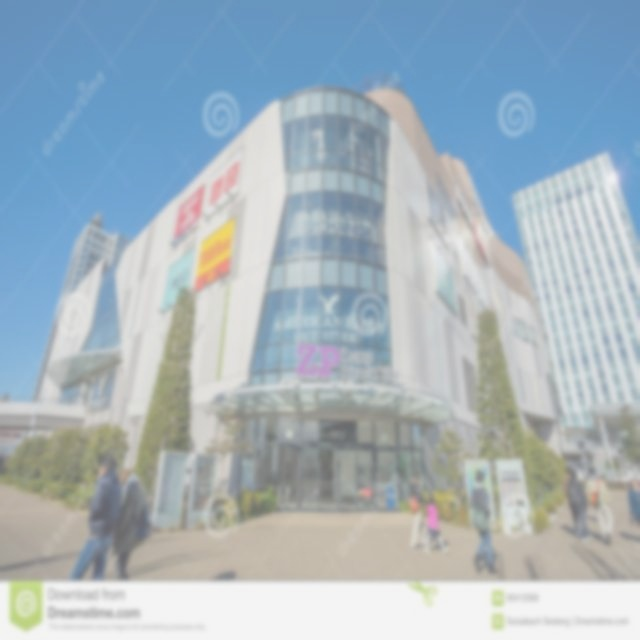pessoa: (68, 453, 124, 580), (111, 466, 155, 581), (468, 468, 499, 576), (583, 464, 615, 546), (560, 464, 590, 540), (566, 468, 594, 542), (407, 469, 429, 552), (422, 492, 450, 555), (627, 477, 640, 529), (616, 528, 640, 546), (478, 546, 496, 570), (356, 467, 366, 509), (427, 538, 448, 550), (1, 389, 11, 407), (270, 472, 276, 498), (599, 472, 607, 484), (584, 468, 590, 480)
